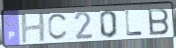0: (99, 9, 119, 40)
2: (73, 11, 95, 41)
B: (146, 7, 170, 37)
C: (46, 12, 70, 41)
H: (20, 11, 48, 45)
L: (124, 9, 144, 37)
